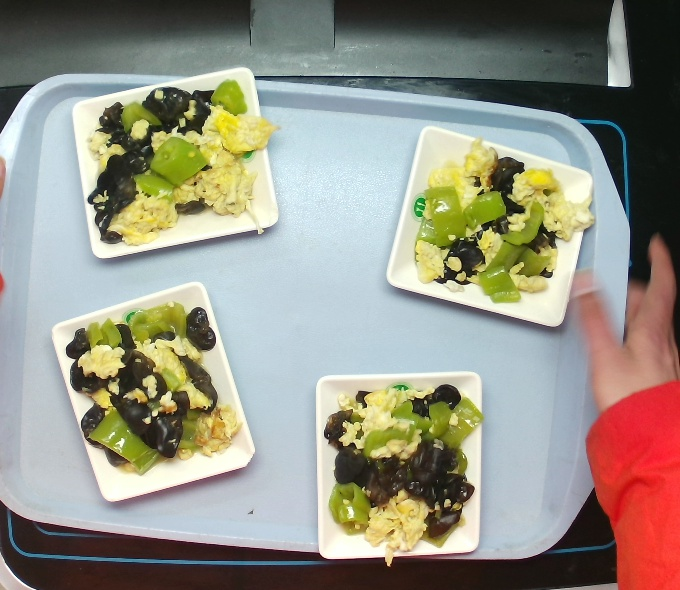wcq-MuErDanHuang: (51, 297, 250, 476), (401, 134, 590, 313), (83, 84, 272, 251), (315, 384, 480, 552)
